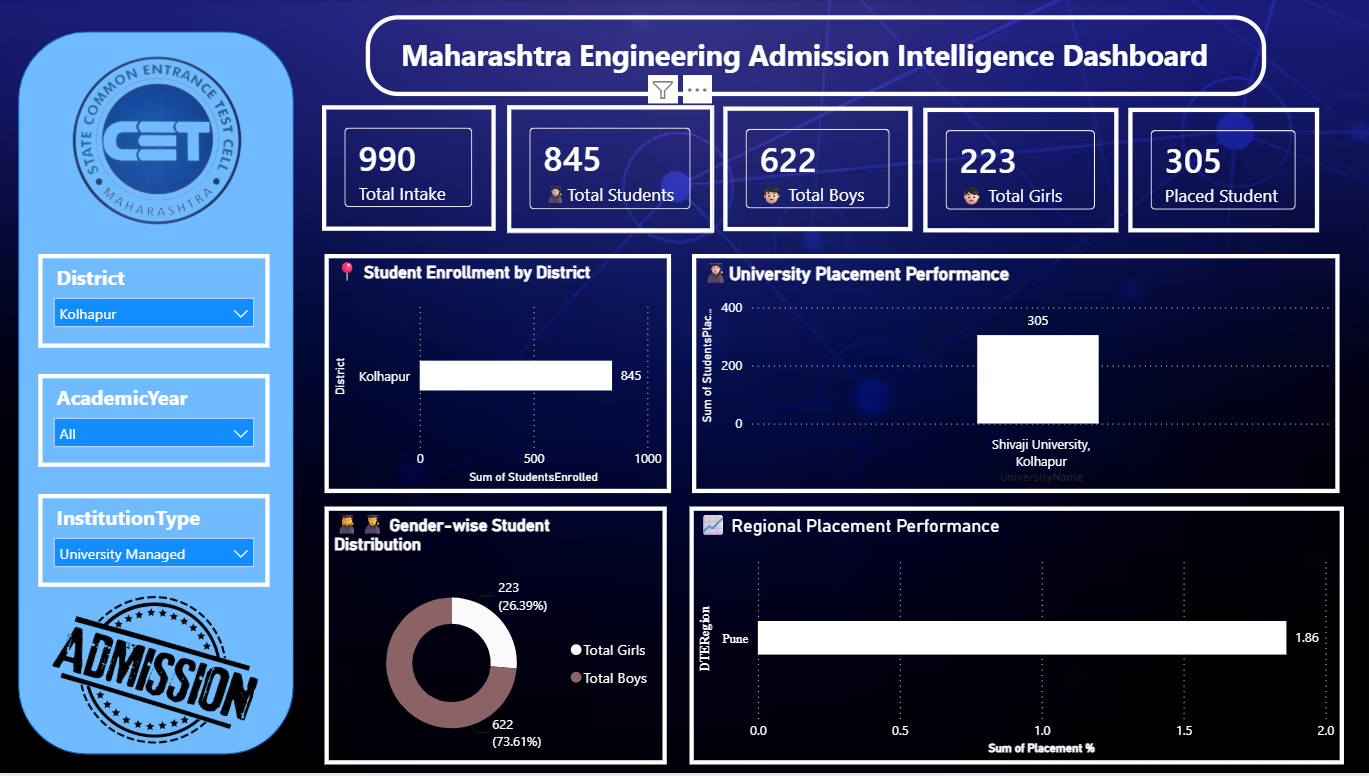

The dashboard page shown, as its layout file describes it:
{"tool":"powerbi","page":{"name":"Page 1","canvas":[1280,720],"ordinal":0},"visuals":[{"type":"cardVisual","fields":{"Data":["Data.Total Intake"]},"box":[302.5,98.8,161.9,116.6],"z":0},{"type":"shape","box":[20,30,256.2,672.5],"z":1000},{"type":"textbox","box":[342.5,15,837.5,75],"z":2000},{"type":"cardVisual","fields":{"Data":["Data.Total Students Enrolled"]},"box":[473.9,98.8,192.5,118.8],"z":3000},{"type":"cardVisual","fields":{"Data":["Data.Total Boys"]},"box":[676,100,176.2,116.2],"z":4000},{"type":"cardVisual","fields":{"Data":["Data.Total Girls"]},"box":[861.7,101.2,181.2,116.2],"z":5000},{"type":"clusteredBarChart","title":"📍 Student Enrollment by District","fields":{"Category":["Data.District"],"Y":["Sum(Data.StudentsEnrolled)"]},"box":[305,237.5,322.5,222.5],"z":6000},{"type":"columnChart","title":"🧑🏻🎓University Placement Performance","fields":{"Y":["Sum(Data.StudentsPlaced)"],"Category":["Data.UniversityName"]},"box":[646.2,237.5,602.5,222.5],"z":7000},{"type":"donutChart","title":"👩🎓👨🎓 Gender-wise Student Distribution","fields":{"Y":["Data.Total Girls","Data.Total Boys"]},"box":[305,472.5,318.8,240],"z":8000},{"type":"clusteredBarChart","title":"📈  Regional Placement Performance","fields":{"Category":["Data.DTERegion","Data.InstituteName"],"Y":["Sum(Data.Placement %)"]},"box":[644.2,472,608.8,240],"z":9000},{"type":"slicer","fields":{"Values":["Data.District"]},"box":[38.8,237.5,215,87.5],"z":10000},{"type":"slicer","fields":{"Values":["Data.AcademicYear"]},"box":[38.8,348.8,215,86.2],"z":11000},{"type":"slicer","fields":{"Values":["Data.InstitutionType"]},"box":[38.8,460,215,86.2],"z":12000},{"type":"image","box":[41.2,546.2,212.5,156.2],"z":13000},{"type":"cardVisual","fields":{"Data":["Data.Total Students Placed"]},"box":[1052.5,101.2,177.5,116.2],"z":14000},{"type":"image","box":[28.8,52.5,240,158.8],"z":14001}]}

Visuals, with their boxes in screenshot pixels (x1, y1, x2, y2), scaled from the page's 1280x720 canvas onto the 1369x776 screenshot:
cardVisual - Data.Total Intake: 324/106/497/232
shape: 21/32/295/757
textbox: 366/16/1262/97
cardVisual - Data.Total Students Enrolled: 507/106/713/235
cardVisual - Data.Total Boys: 723/108/911/233
cardVisual - Data.Total Girls: 922/109/1115/234
"📍 Student Enrollment by District" clusteredBarChart: 326/256/671/496
"🧑🏻🎓University Placement Performance" columnChart: 691/256/1336/496
"👩🎓👨🎓 Gender-wise Student Distribution" donutChart: 326/509/667/768
"📈  Regional Placement Performance" clusteredBarChart: 689/509/1340/767
slicer - Data.District: 41/256/271/350
slicer - Data.AcademicYear: 41/376/271/469
slicer - Data.InstitutionType: 41/496/271/589
image: 44/589/271/757
cardVisual - Data.Total Students Placed: 1126/109/1316/234
image: 31/57/287/228
